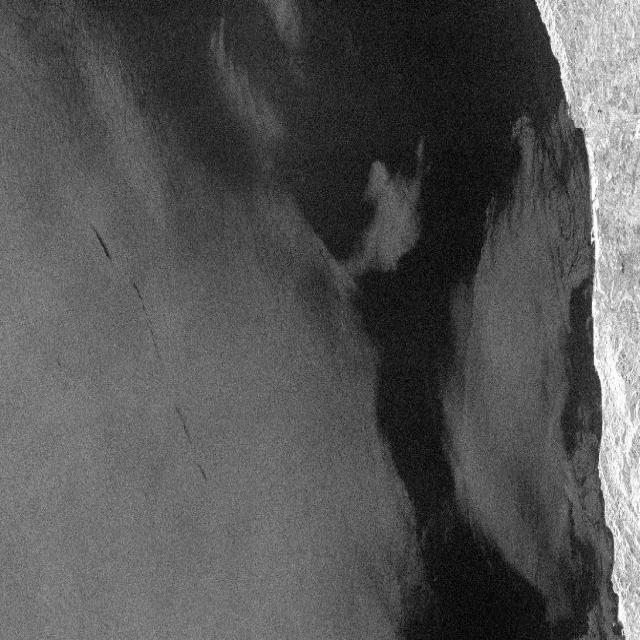look-alike: (279, 3, 526, 239), (96, 7, 261, 199), (351, 260, 459, 500), (410, 515, 551, 631), (556, 275, 604, 474)
oil-spill: (128, 282, 163, 373), (175, 406, 210, 492), (86, 220, 116, 278)
